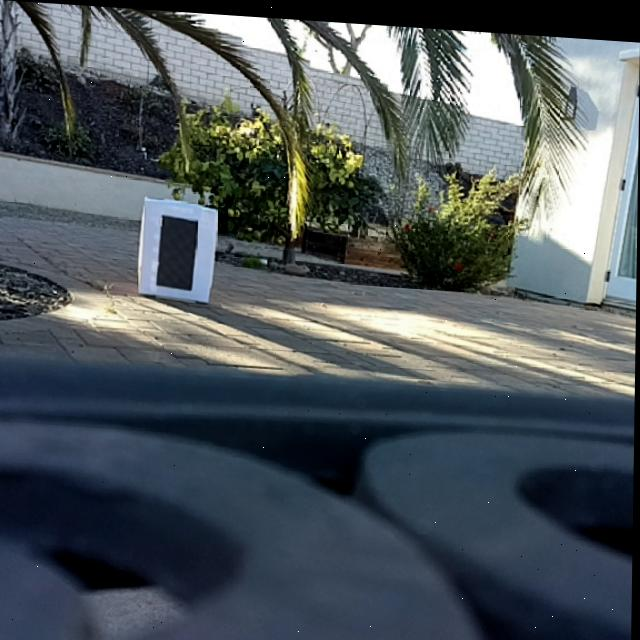led: (158, 213, 201, 287)
